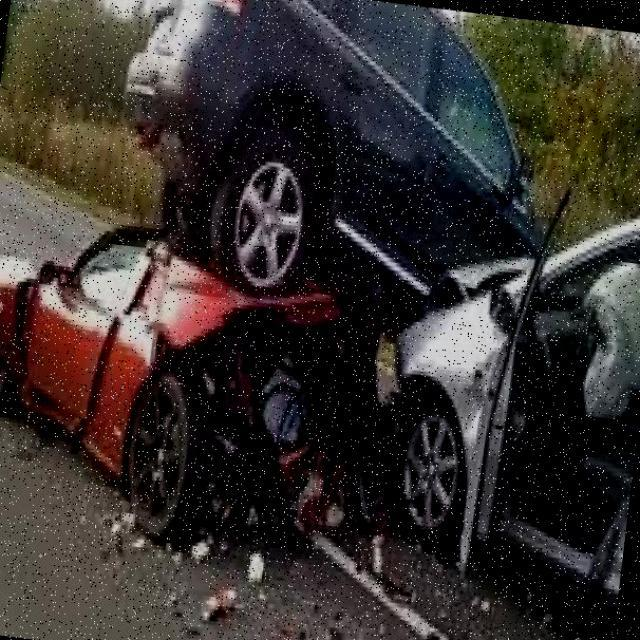accident: (0, 157, 541, 586)
